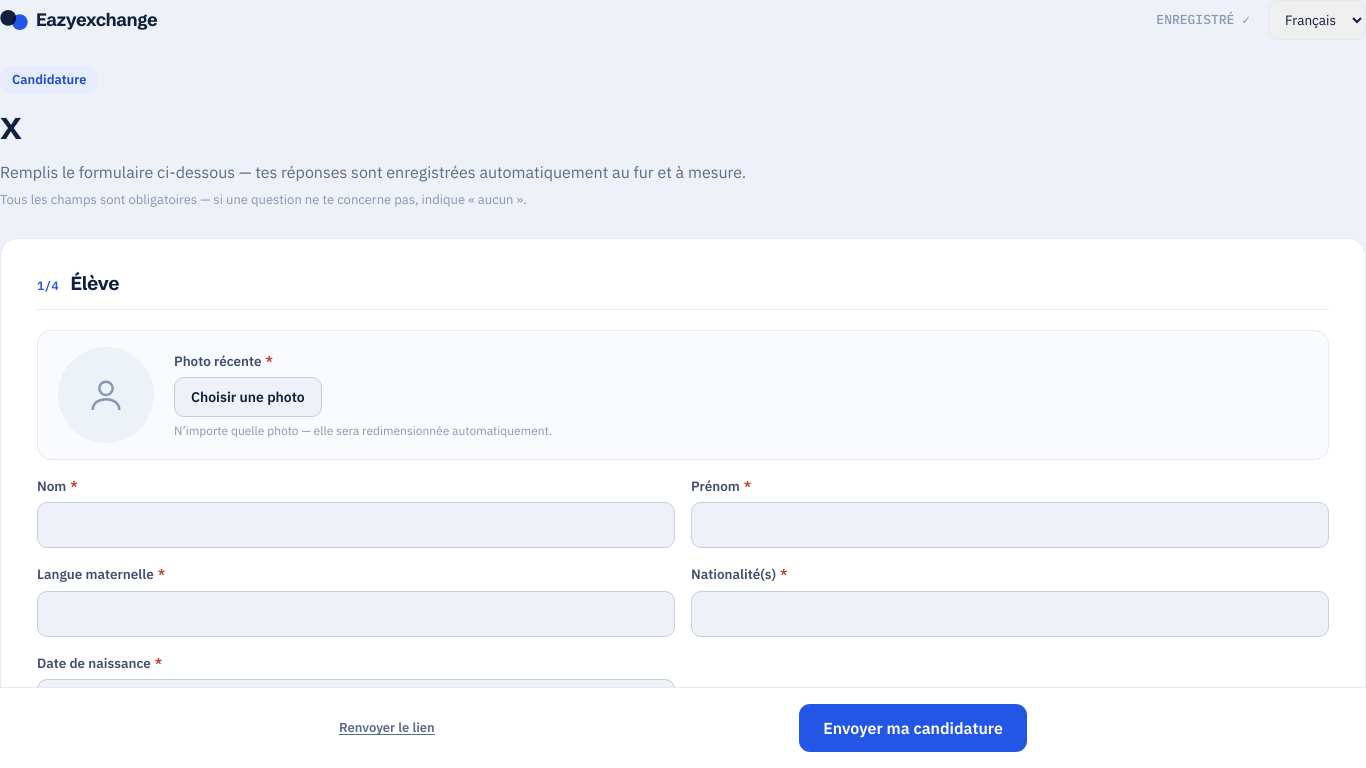
Test: ApplicationForm › clears the stored resume token on successful submit
Click the button "Envoyer ma candidature": (913, 728) [799,704,1027,752]
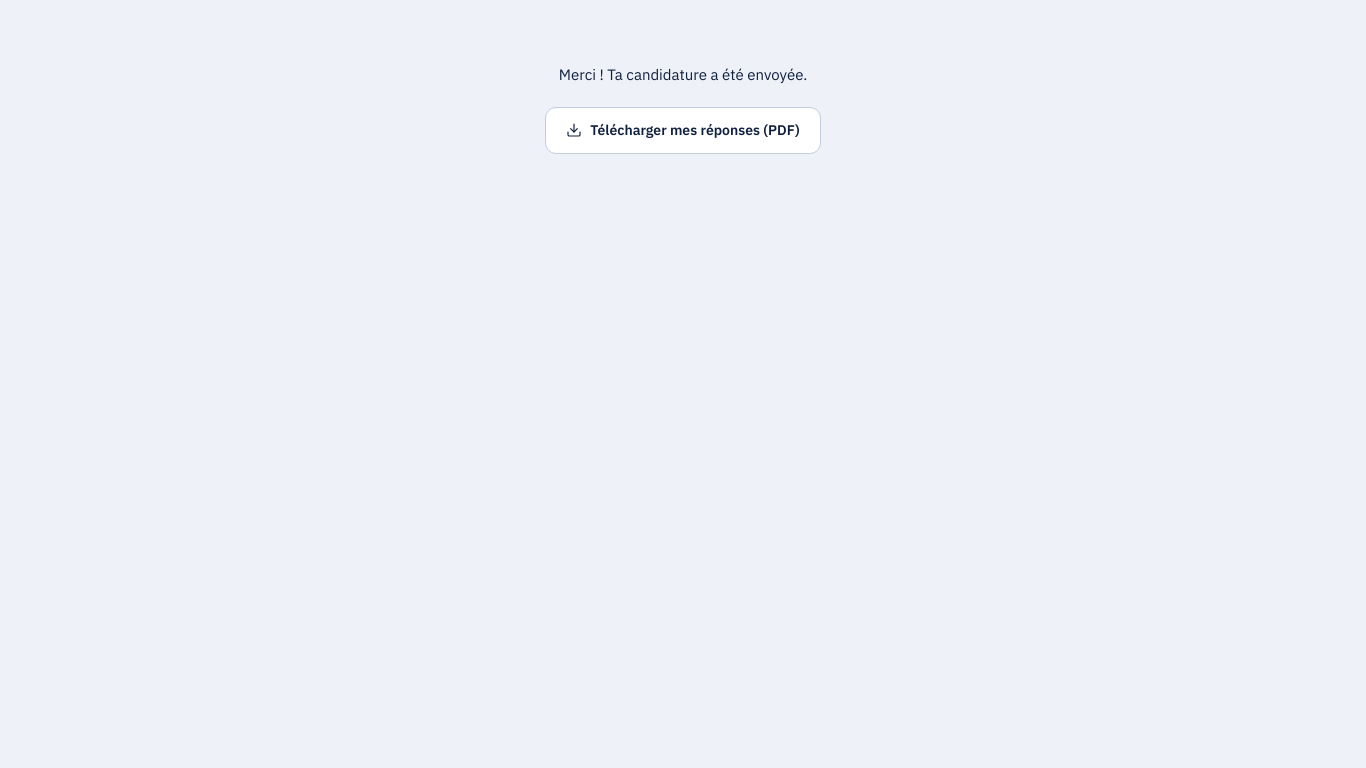
Expected: the text "Merci ! Ta candidature a été envoyée." is shown, [559,64,807,86]
